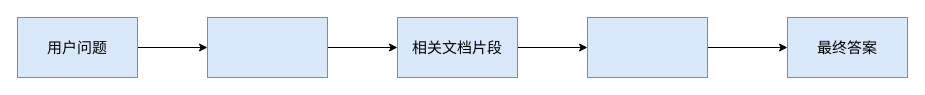
Image size: 925x95. Some labels were removed from this diagram. Here are the shapes that lost their labels. From the top down, the centre of each, then its label:
At pixel 267 47: "检索器".
At pixel 647 47: "生成器".
